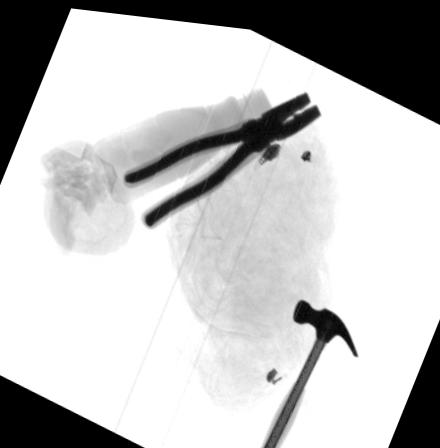Hammer: (255, 290, 358, 448)
Pliers: (121, 83, 321, 226)
